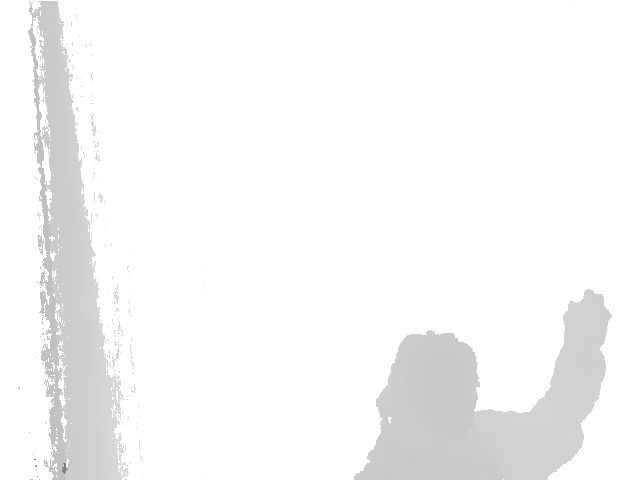hand: (560, 286, 615, 349)
head: (373, 329, 482, 428)
person: (355, 287, 615, 480)
